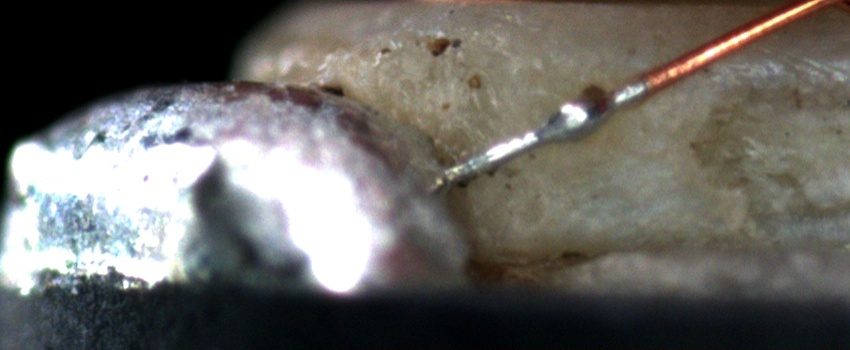CL: (771, 0, 849, 18)
DL: (686, 41, 846, 105)
TB: (539, 88, 611, 151)
TS: (442, 81, 646, 184)
TTCW: (442, 52, 695, 186)
